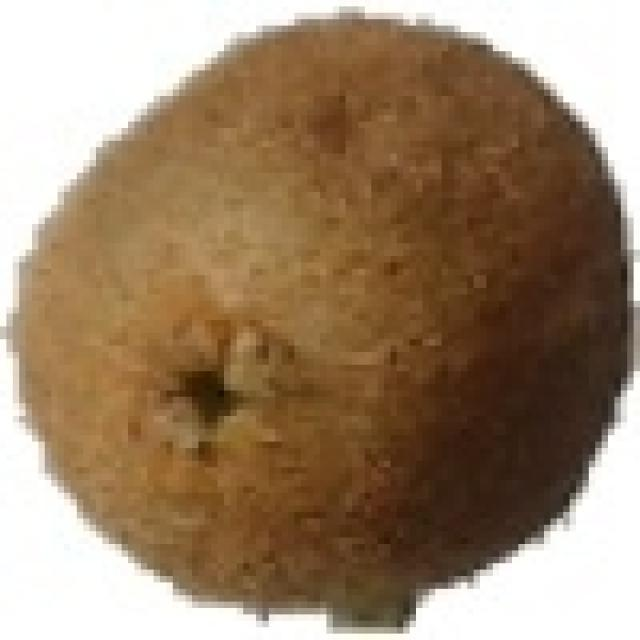kiwi: (6, 6, 614, 614)
